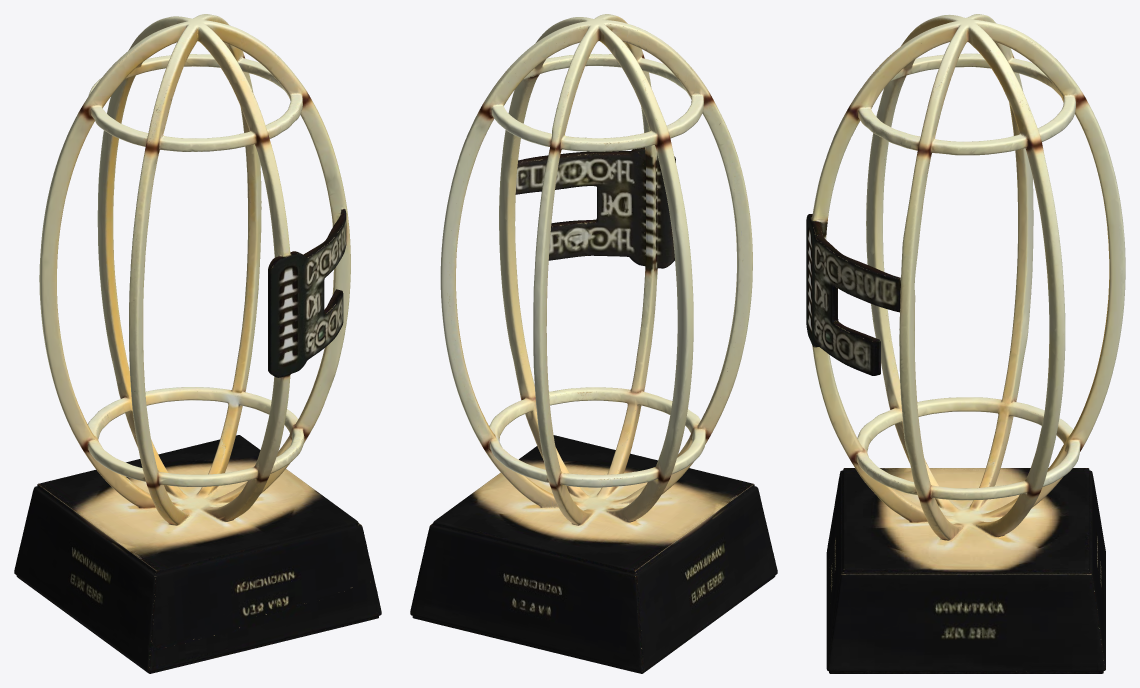
File: meilleurTop14.glb
The picture shows the model from 3 angles, left to right: view 1: azimuth 30°, elevation 25°; view 2: azimuth 150°, elevation 25°; view 3: azimuth 270°, elevation 25°; orthographic projection. The views are drawn at different scales.
Visible parts, largest first — view 1: mesh_node; view 2: mesh_node; view 3: mesh_node.
Part boxes in pixels (x1,y1,x2,y2): mesh_node: (14,14,381,673); mesh_node: (410,14,777,673); mesh_node: (806,14,1125,673).
Size of the model in its own units: 0.8675 by 1.9 by 0.9264.
Materials: 1 (1 with a texture image).
